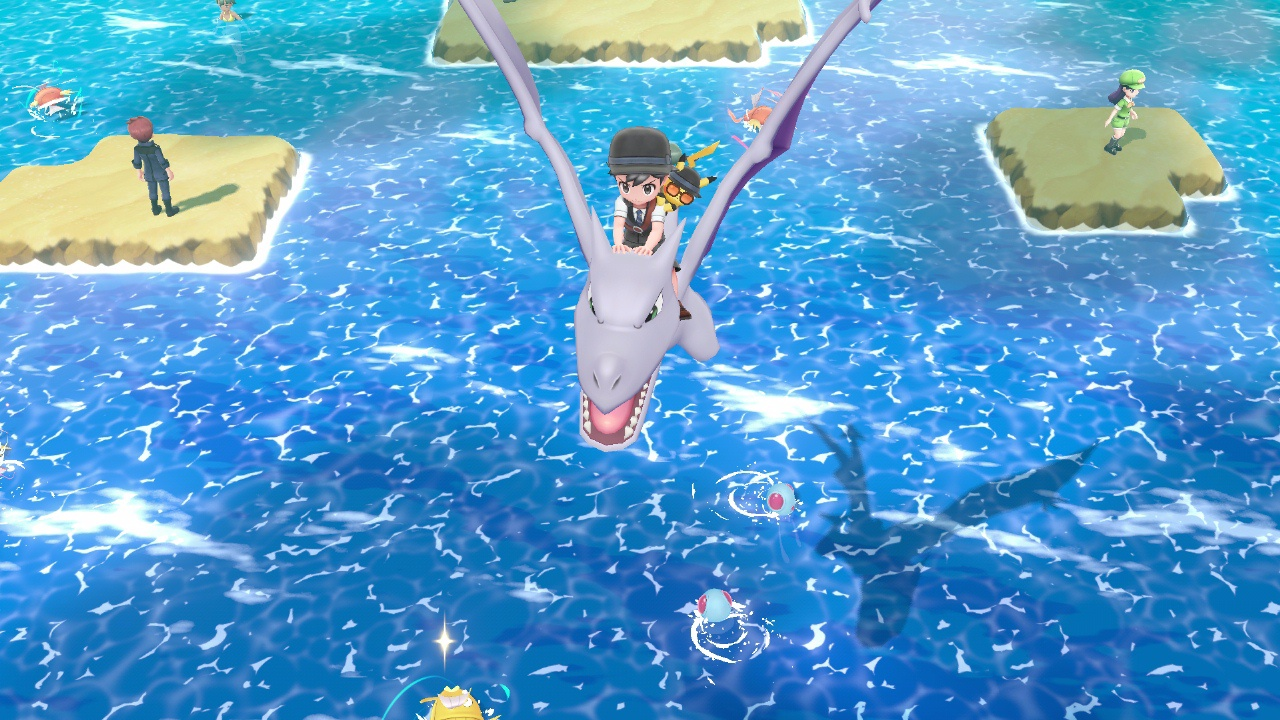Golden: (425, 684, 489, 720)
Red: (26, 80, 69, 118), (743, 104, 776, 130)
